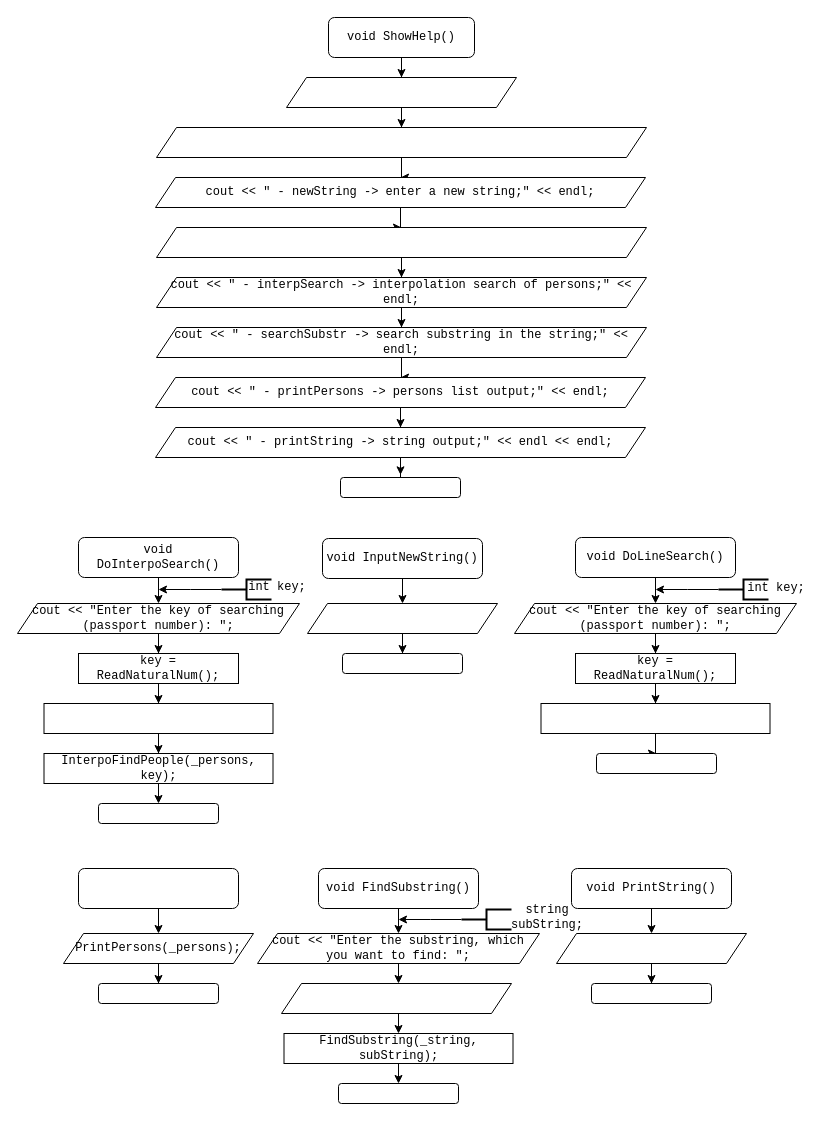
Some shapes in this 824 by 1121 pixel diagram are drawn without their labels. The box of each missing label's shape, as (x1, y1, x2, y2) in pixels:
cout << " - lineSearch -> linear search of persons;" << endl;: (156, 226, 646, 258)
cout << " - newPersons -> enter a list of persons;" << endl;: (156, 126, 646, 158)
cout << "Commands:" << endl;: (286, 76, 516, 108)
cout << _string << endl;: (556, 932, 746, 964)
getline(cin, _string);: (306, 602, 498, 634)
getLine(cin, subString);: (280, 982, 512, 1014)
LinearFindPeople(_persons, key);: (540, 702, 770, 734)
SelectionSort(_persons);: (43, 702, 273, 734)
void PrintAllPersons(): (78, 868, 238, 908)
